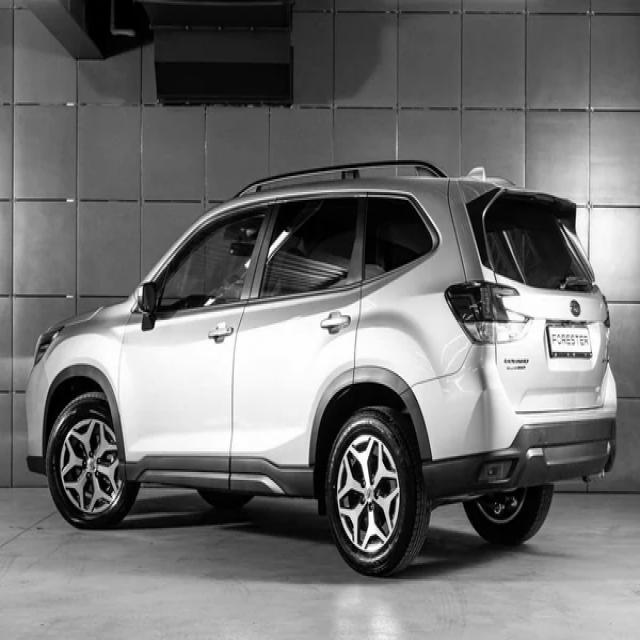Car: (26, 162, 618, 576)
